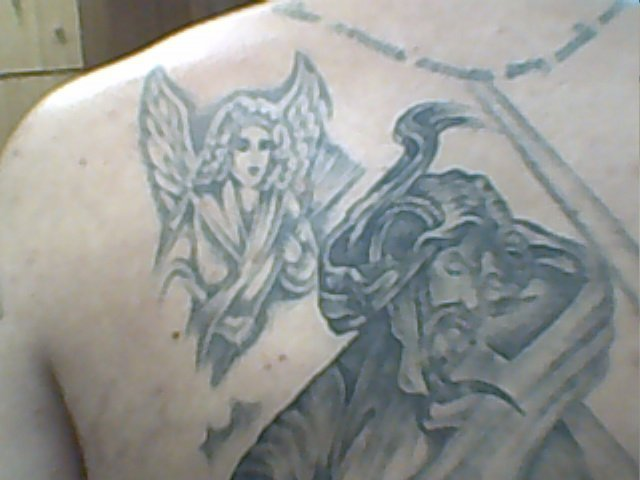tatu1_angel: (124, 61, 325, 358)
